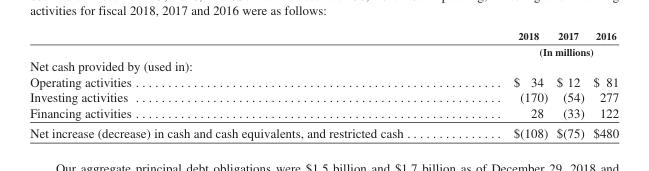table: (29, 29, 618, 140)
table column: (29, 29, 457, 140), (457, 29, 551, 140), (551, 29, 588, 140), (588, 29, 618, 140)
table column header: (29, 29, 618, 57)
table projected row header: (29, 57, 618, 73)
table row: (29, 104, 618, 122), (29, 122, 618, 140), (29, 57, 618, 73), (29, 88, 618, 104), (29, 73, 618, 88), (29, 29, 618, 43), (29, 43, 618, 57)
table spanning cell: (457, 43, 618, 57)
